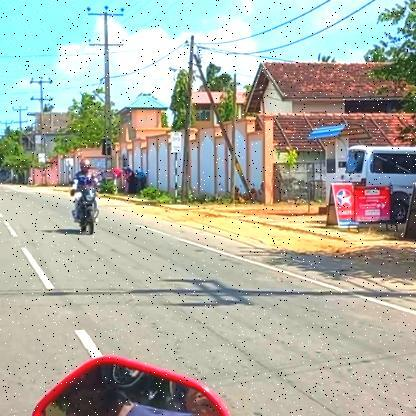motorcycle: (66, 183, 104, 236)
